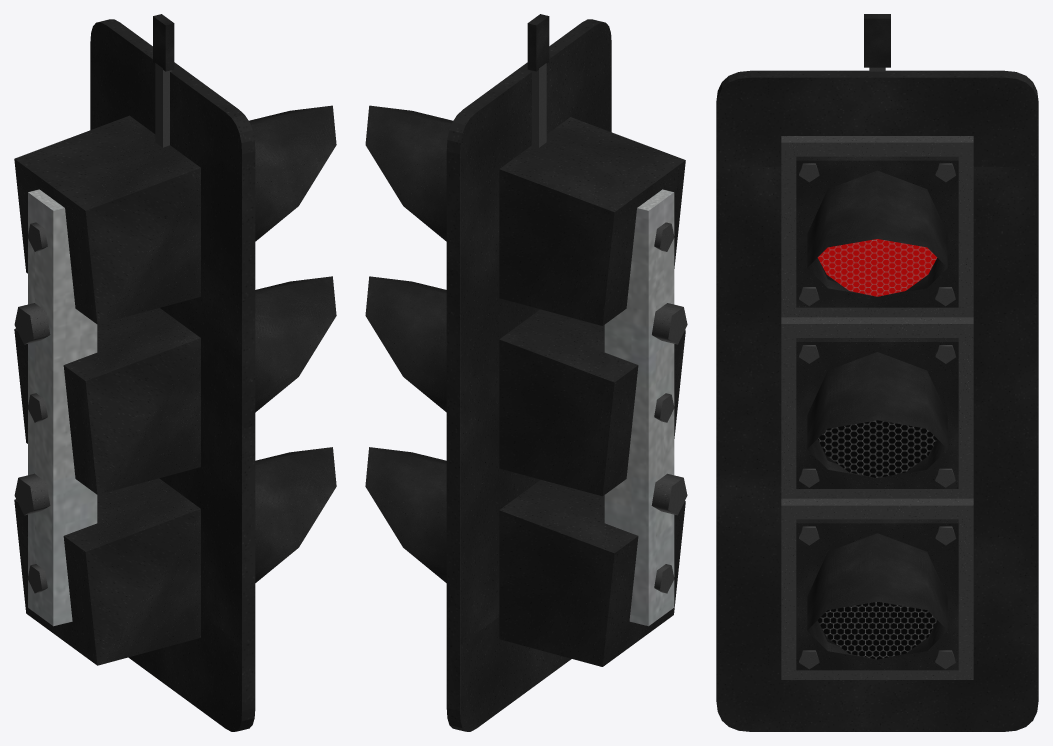
Rendered from GSDTrafficLightMain.FBX.
3 views of the same model, side by side, from view 1: azimuth 30°, elevation 25°; view 2: azimuth 150°, elevation 25°; view 3: azimuth 270°, elevation 25° (orthographic). The views are drawn at different scales.
Visible parts, largest first — view 1: LightBase; view 2: LightBase; view 3: LightBase, Lights.
Boxes of the visible parts, <box> form: LightBase: <box>14,14,336,731</box>; LightBase: <box>365,14,687,731</box>; LightBase: <box>716,14,1038,731</box>; Lights: <box>817,239,937,659</box>.
Bounding box in the file's own units: 0.7001 × 0.596 × 1.44.
